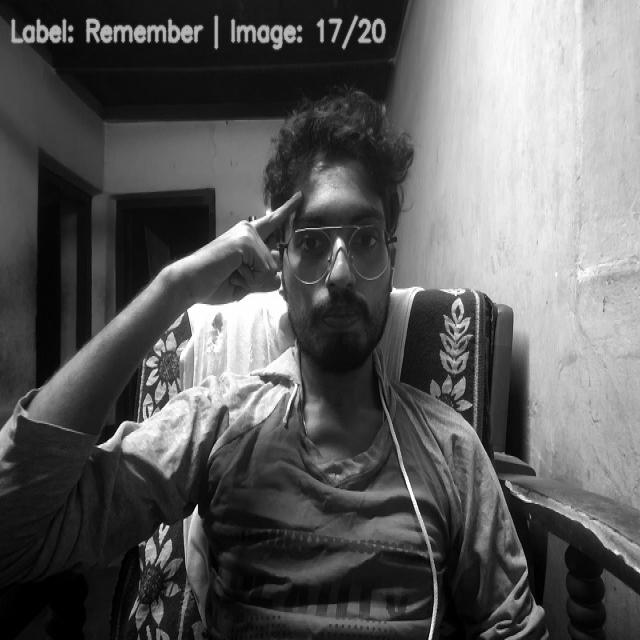Remember: (174, 187, 305, 303)
